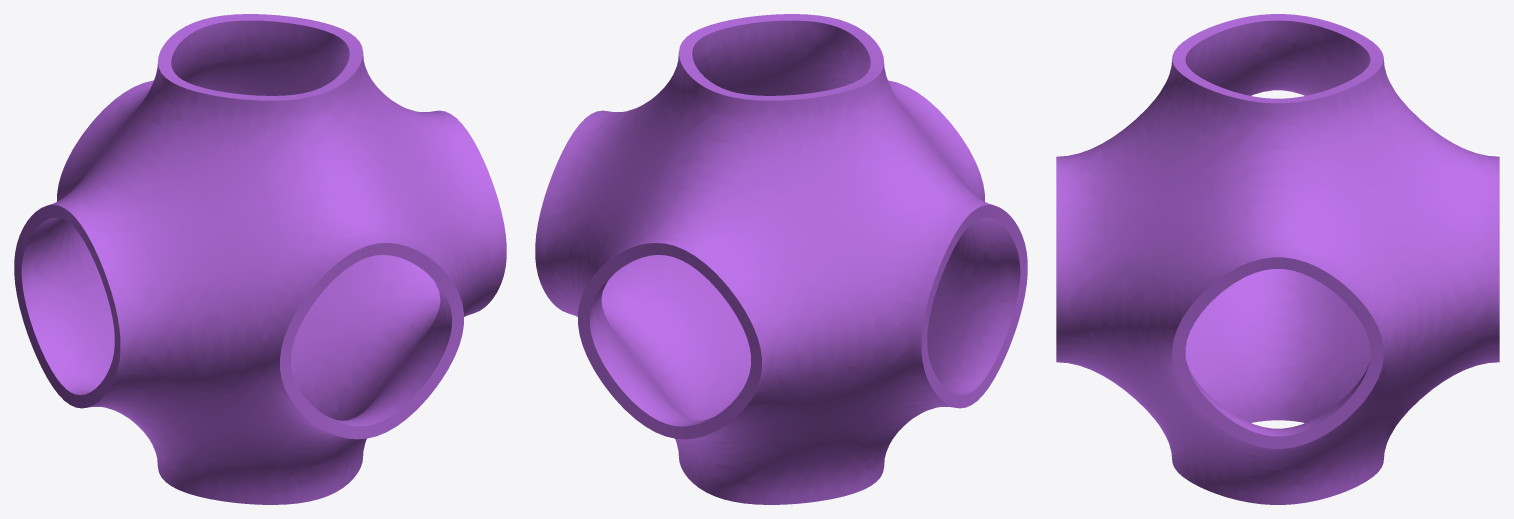
3 renders of one model, left to right at view 1: azimuth 30°, elevation 25°; view 2: azimuth 150°, elevation 25°; view 3: azimuth 270°, elevation 25°, orthographic.
Size of the model in its own units: 0.2 by 0.2 by 0.2.
